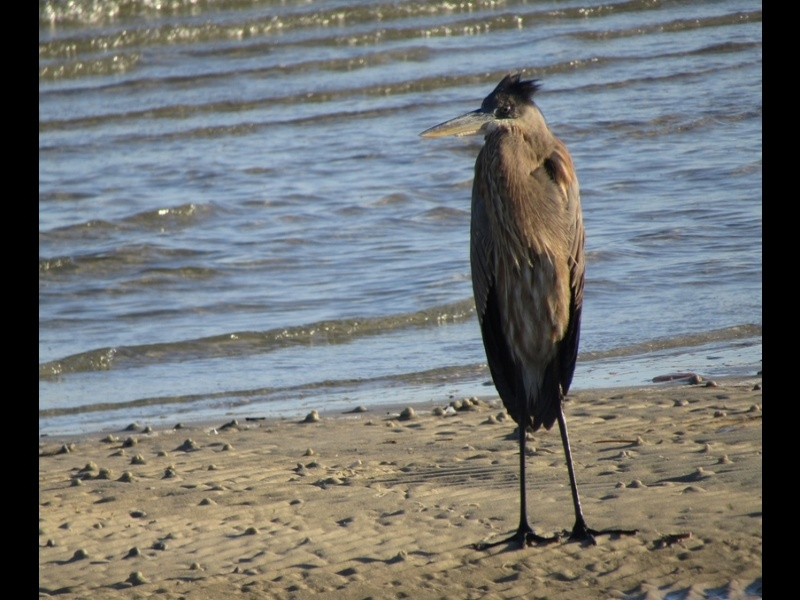heron: (417, 71, 601, 552)
